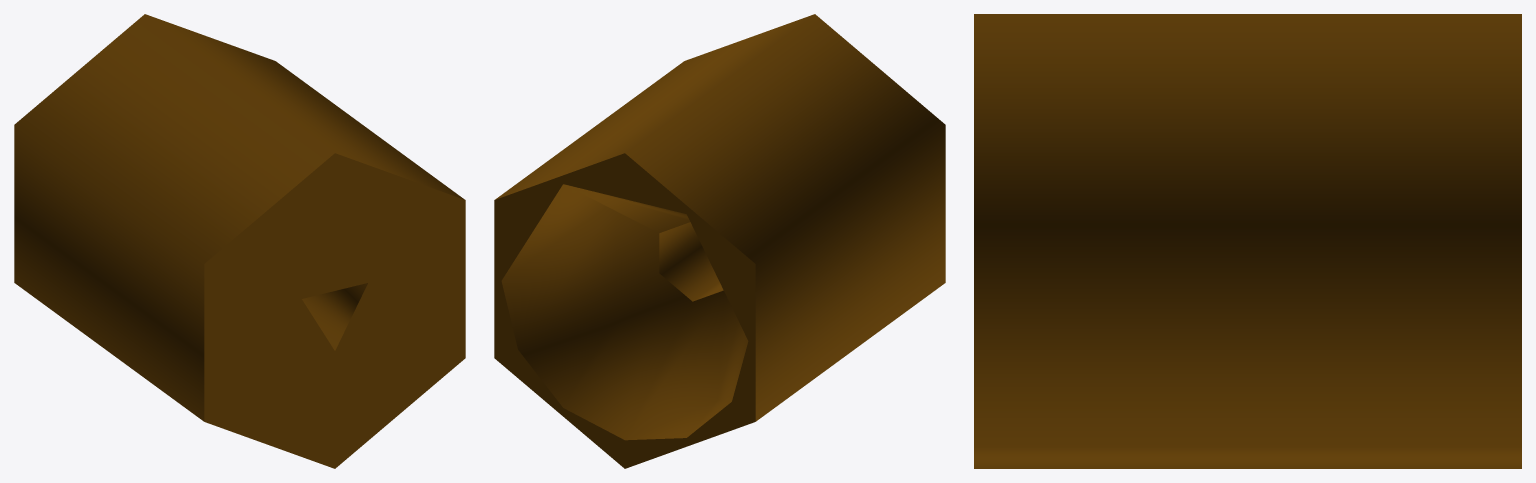
The model's file is Pallier (5.5_1.4)_instance_4.obj.
3 views of the same model, side by side, from view 1: azimuth 30°, elevation 25°; view 2: azimuth 150°, elevation 25°; view 3: azimuth 270°, elevation 25° (orthographic). The views are drawn at different scales.
Visible parts, largest first — view 1: Face_4, Face_1, Face_5; view 2: Face_4, Face_2, Face_3, Face_5; view 3: Face_4.
Part boxes in pixels (bbox=[...]): Face_4: bbox=[14, 14, 464, 421]; Face_1: bbox=[204, 153, 465, 468]; Face_5: bbox=[302, 283, 367, 350]; Face_4: bbox=[495, 14, 945, 421]; Face_2: bbox=[501, 184, 748, 440]; Face_3: bbox=[494, 153, 755, 468]; Face_5: bbox=[659, 222, 723, 301]; Face_4: bbox=[974, 14, 1521, 468].
Size of the model in its own units: 0.00476 by 0.0055 by 0.006.
